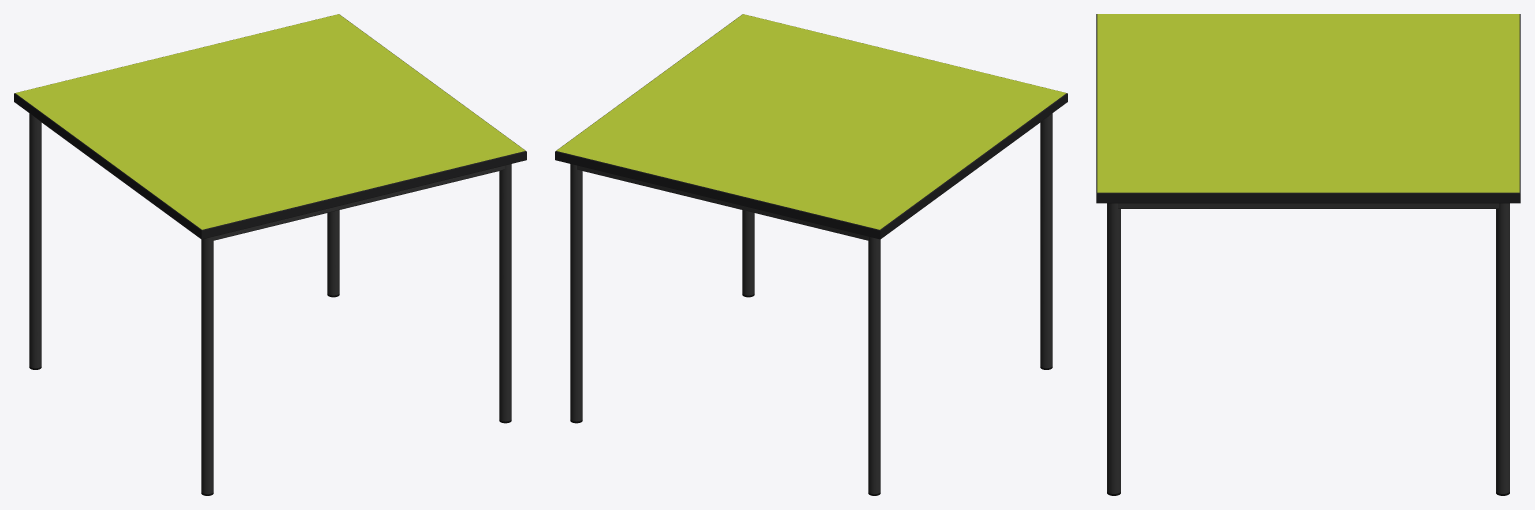
The model's file is Spruce Table.FBX.
The picture shows the model from 3 angles, left to right: view 1: azimuth 30°, elevation 25°; view 2: azimuth 150°, elevation 25°; view 3: azimuth 270°, elevation 25°; orthographic projection. The views are drawn at different scales.
Parts seen in each view (by area): view 1: Group_007, Object014, Object013; view 2: Group_007, Object014, Object013; view 3: Group_007, Object014, Object013.
Part boxes in pixels (x1,y1,x2,y2): Group_007: (15,14,525,229); Object014: (29,113,511,494); Object013: (14,14,526,239); Group_007: (556,14,1066,229); Object014: (570,113,1052,494); Object013: (555,14,1067,239); Group_007: (1097,14,1519,192); Object014: (1107,203,1509,493); Object013: (1096,14,1520,203).
Bounding box in the file's own units: 900 × 720 × 900.
Materials: 4 (1 with a texture image).
